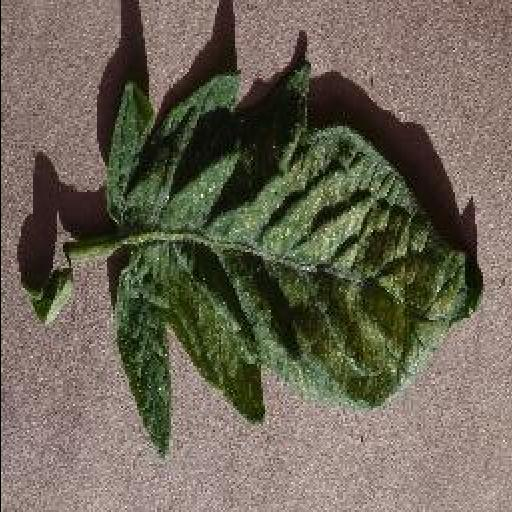disease_tomato: (106, 66, 486, 460)
